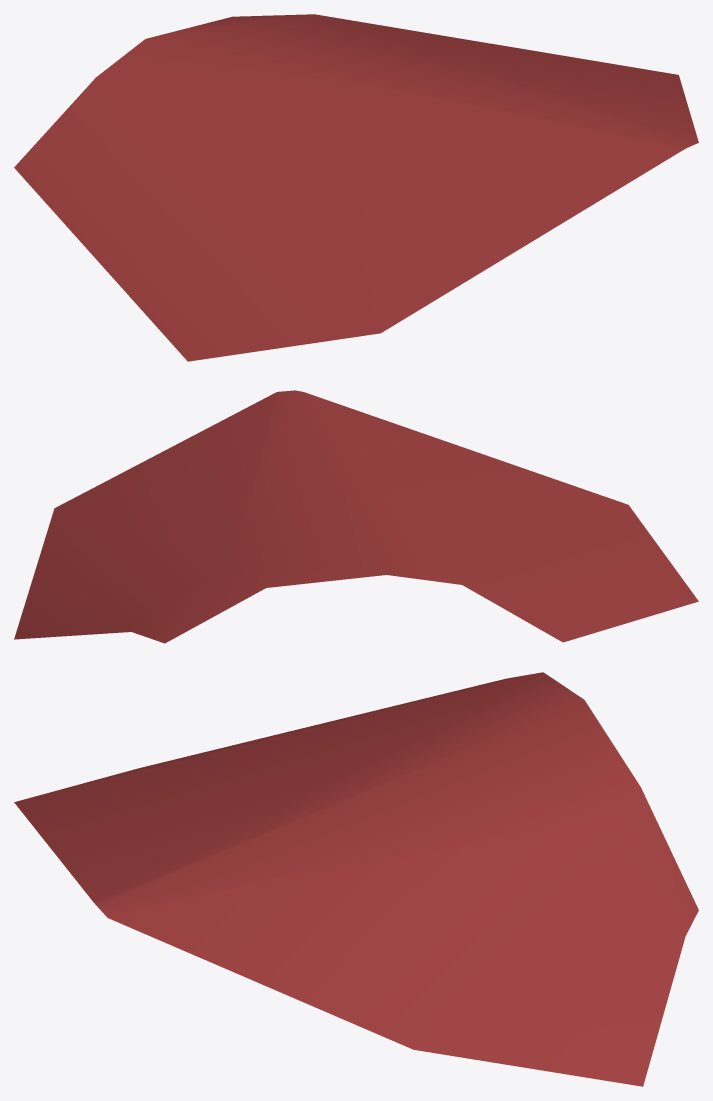
Rendered from extensor-digitorum-longus-e4l.glb.
3 views of the same model, one above another, from view 1: azimuth 30°, elevation 25°; view 2: azimuth 150°, elevation 25°; view 3: azimuth 270°, elevation 25° (orthographic). The views are drawn at different scales.
Visible parts, largest first — view 1: Extensor digitorum longus.e4l; view 2: Extensor digitorum longus.e4l; view 3: Extensor digitorum longus.e4l.
Part boxes in pixels (<box>): Extensor digitorum longus.e4l: <box>14,14,698,361</box>; Extensor digitorum longus.e4l: <box>14,390,698,643</box>; Extensor digitorum longus.e4l: <box>14,672,698,1086</box>.
Size of the model in its own units: 0.00296 by 0.000691 by 0.00253.
